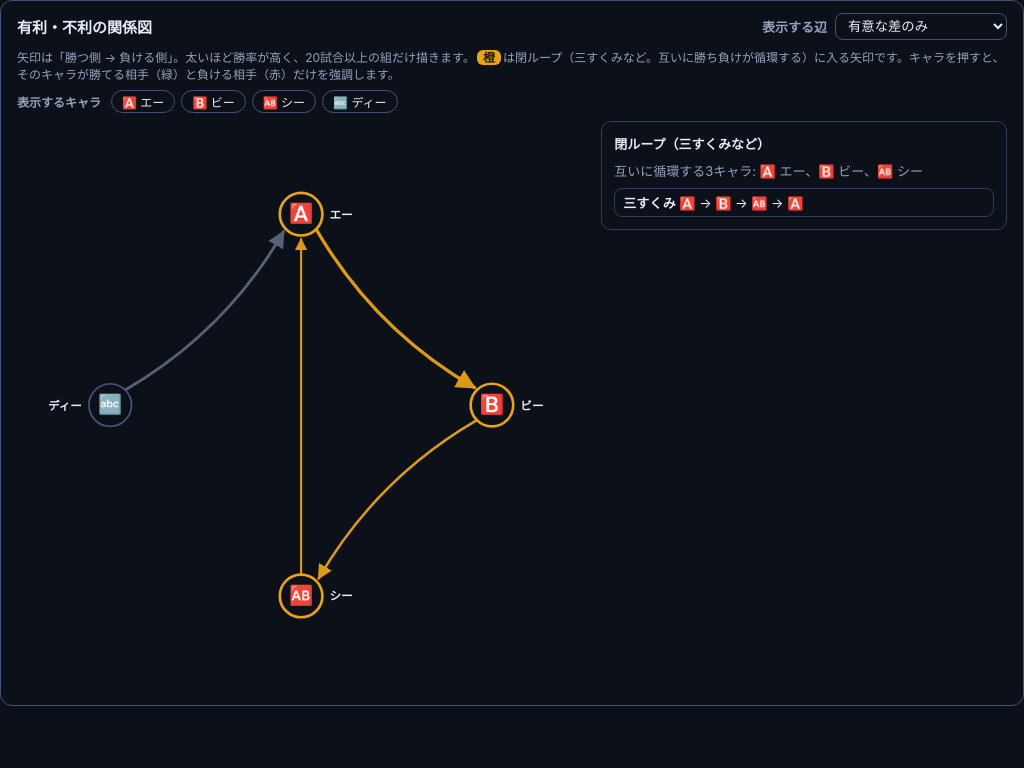
it: MatchupGraph › キャラを非表示にすると、そのキャラの辺と閉ループも外れる。「すべて表示」で戻る
Check: the text "三すくみ" is shown, box [623,195,676,211]
Click the button "🅱️ ビー" at (214, 102), box [181,90,246,113]
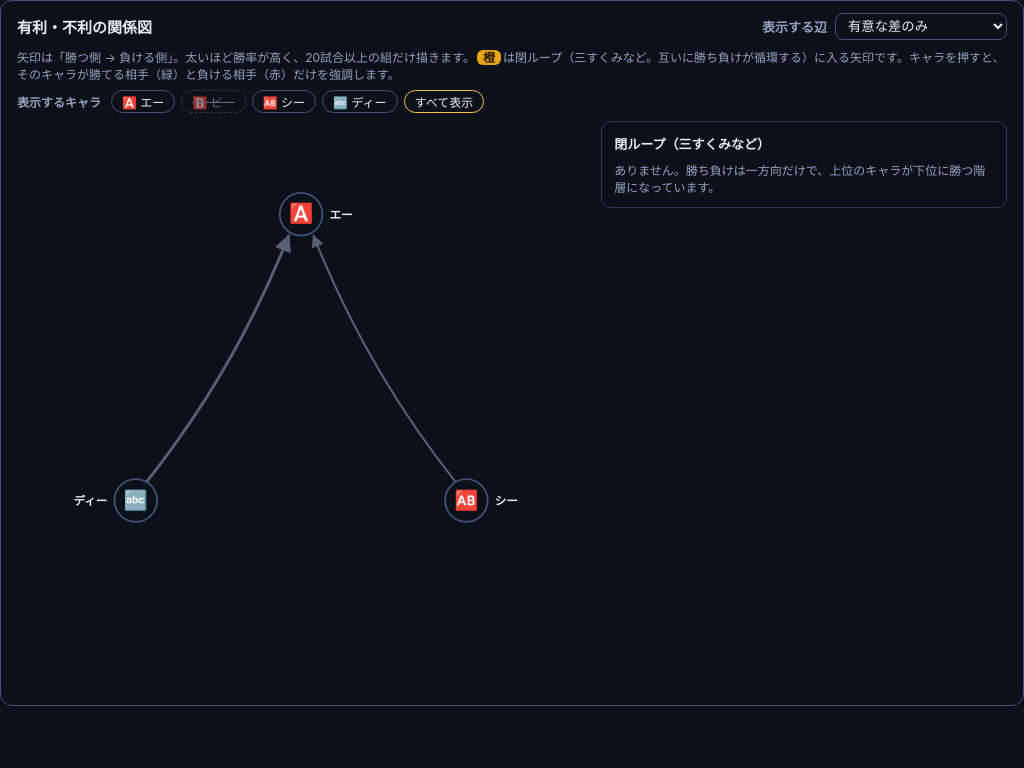
Click the button "すべて表示" at (444, 102), box [404,90,484,113]
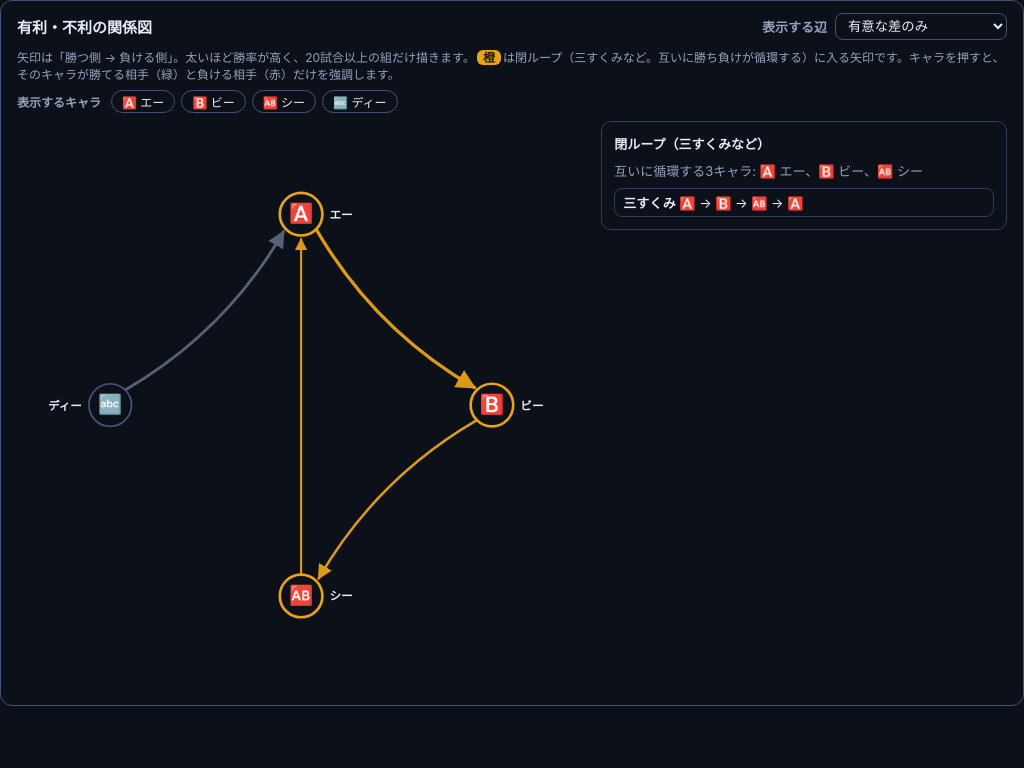
Check: the text "三すくみ" is shown, box [623,195,676,211]
